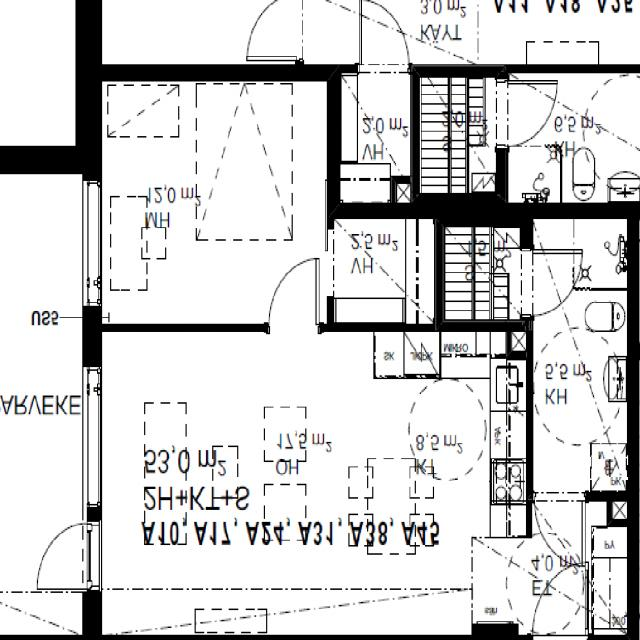door: (33, 524, 102, 590), (520, 249, 584, 316), (534, 563, 588, 640), (270, 257, 320, 331), (535, 491, 582, 563)
